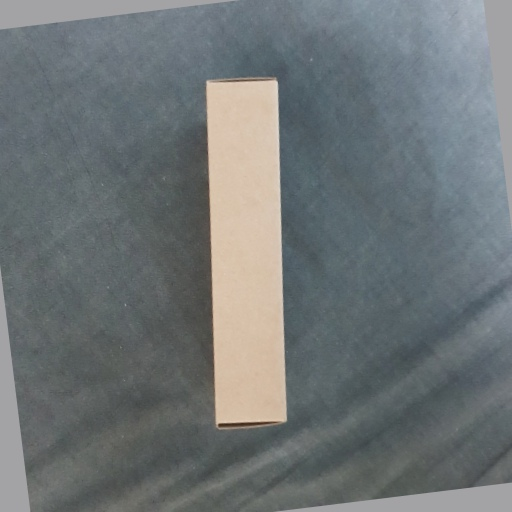Paper_0: (204, 72, 298, 434)
